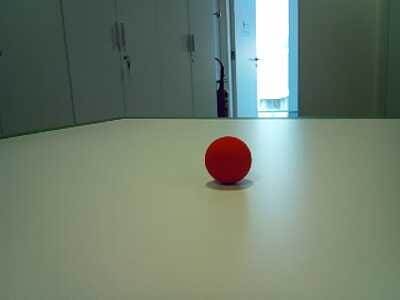bola_cerca: (202, 136, 254, 185)
